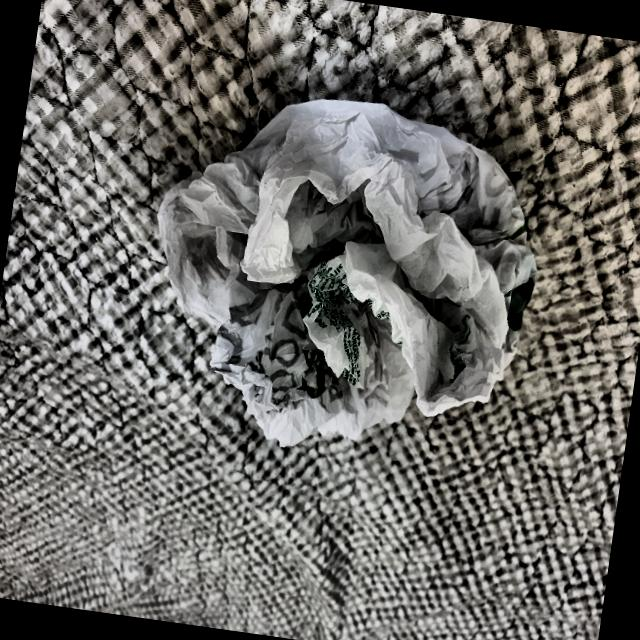plastic bag: (114, 65, 564, 490)
